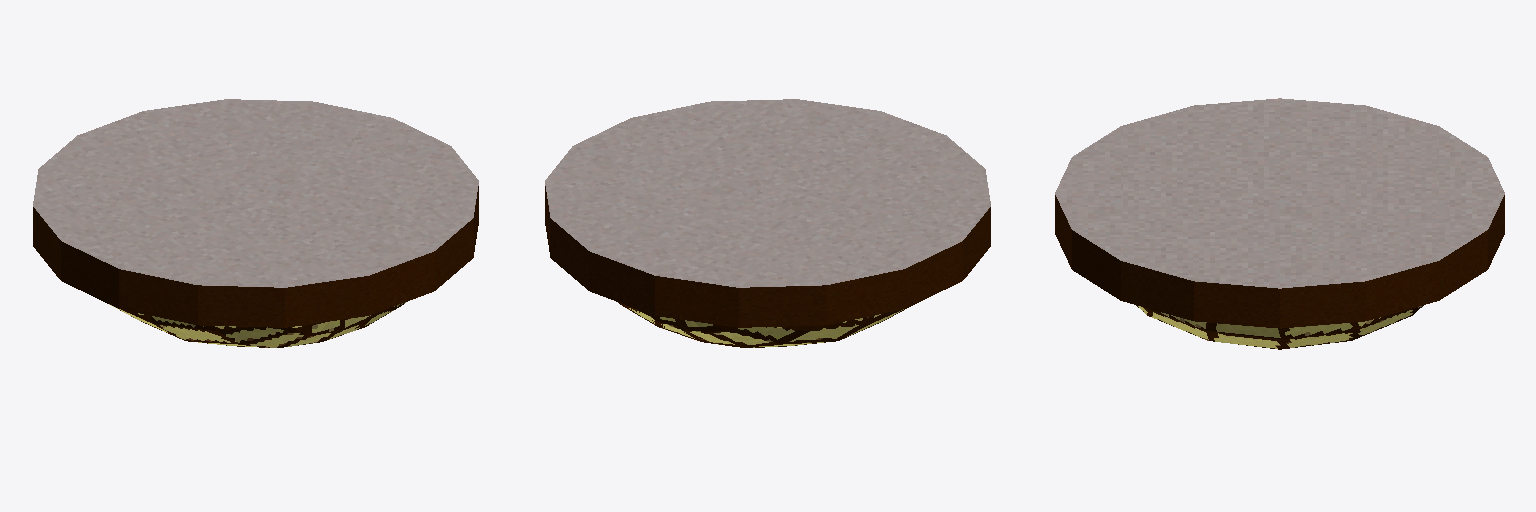
3 views of the same model, side by side, from view 1: azimuth 30°, elevation 25°; view 2: azimuth 150°, elevation 25°; view 3: azimuth 270°, elevation 25° (orthographic).
Visible parts, largest first — view 1: sconce; view 2: sconce; view 3: sconce.
Boxes of the visible parts, <box> form: sconce: <box>33,99,478,347</box>; sconce: <box>545,99,990,347</box>; sconce: <box>1055,98,1504,349</box>.
Bounding box in the file's own units: 0.72 × 0.2206 × 0.72.
Materials: 1 (1 with a texture image).